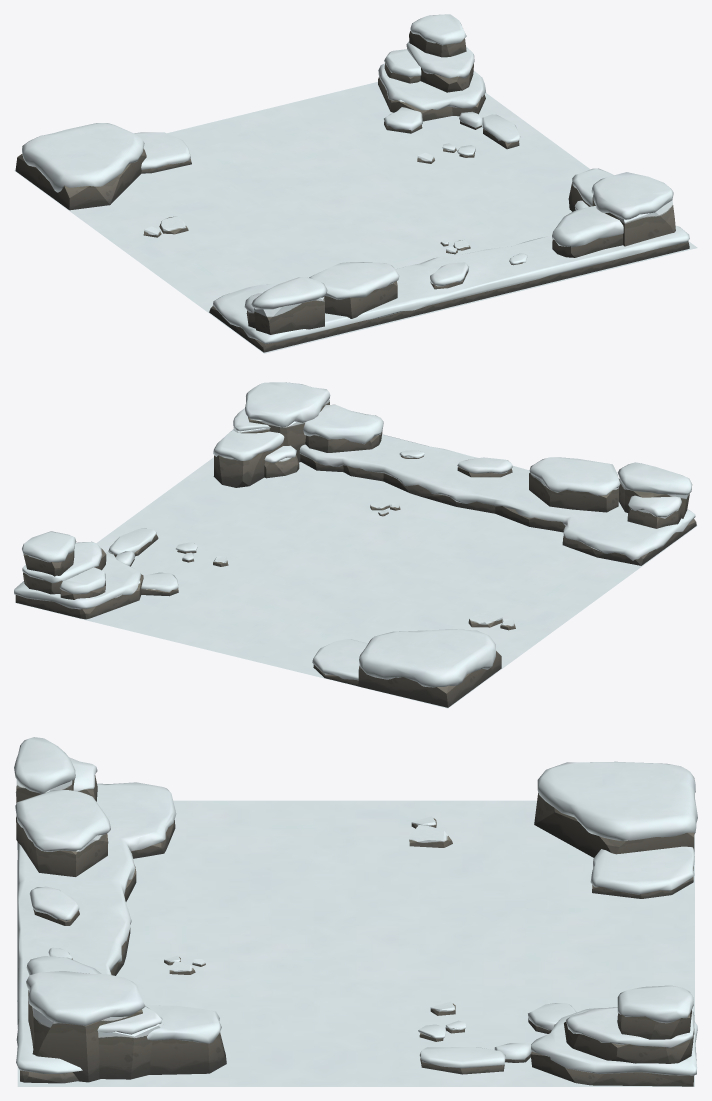
The model's file is ground.fbx.
The picture shows the model from 3 angles, top to bottom: view 1: azimuth 30°, elevation 25°; view 2: azimuth 150°, elevation 25°; view 3: azimuth 270°, elevation 25°; orthographic projection. The views are drawn at different scales.
Parts seen in each view (by area): view 1: ground_a_01; view 2: ground_a_01; view 3: ground_a_01.
Part boxes in pixels (x1,y1,x2,y2): ground_a_01: [14, 14, 697, 353]; ground_a_01: [14, 382, 697, 708]; ground_a_01: [14, 737, 697, 1086].
Bounding box in the file's own units: 708 × 87.59 × 707.
